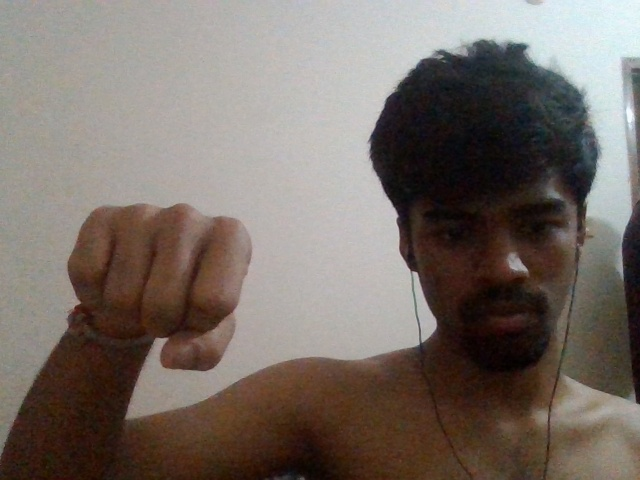Yes: (65, 196, 258, 382)
